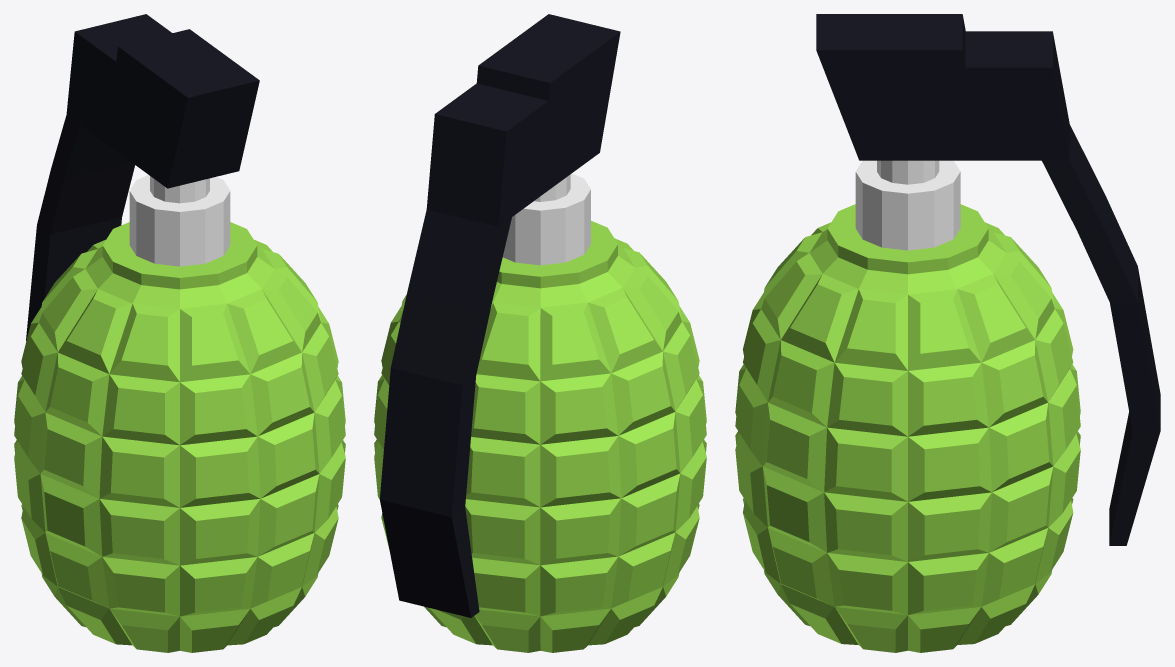
Rendered from grenade.fbx.
The picture shows the model from 3 angles, left to right: view 1: azimuth 30°, elevation 25°; view 2: azimuth 150°, elevation 25°; view 3: azimuth 270°, elevation 25°; orthographic projection. The views are drawn at different scales.
Parts seen in each view (by area): view 1: Cylinder; view 2: Cylinder; view 3: Cylinder.
Boxes of the visible parts, x1,y1,x2,y2 form: Cylinder: [14, 14, 345, 652]; Cylinder: [374, 14, 706, 652]; Cylinder: [735, 14, 1160, 652].
Bounding box in the file's own units: 262 × 484 × 323.
Materials: 1 (1 with a texture image).
